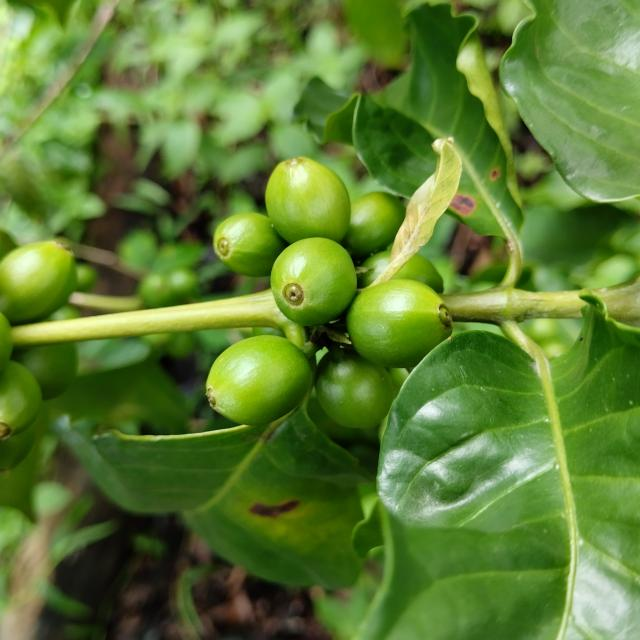green: (206, 335, 312, 425), (346, 279, 452, 368), (271, 237, 357, 326), (265, 156, 351, 243), (0, 241, 76, 324), (213, 212, 286, 277), (342, 191, 406, 257), (392, 254, 444, 293), (358, 251, 391, 288)
